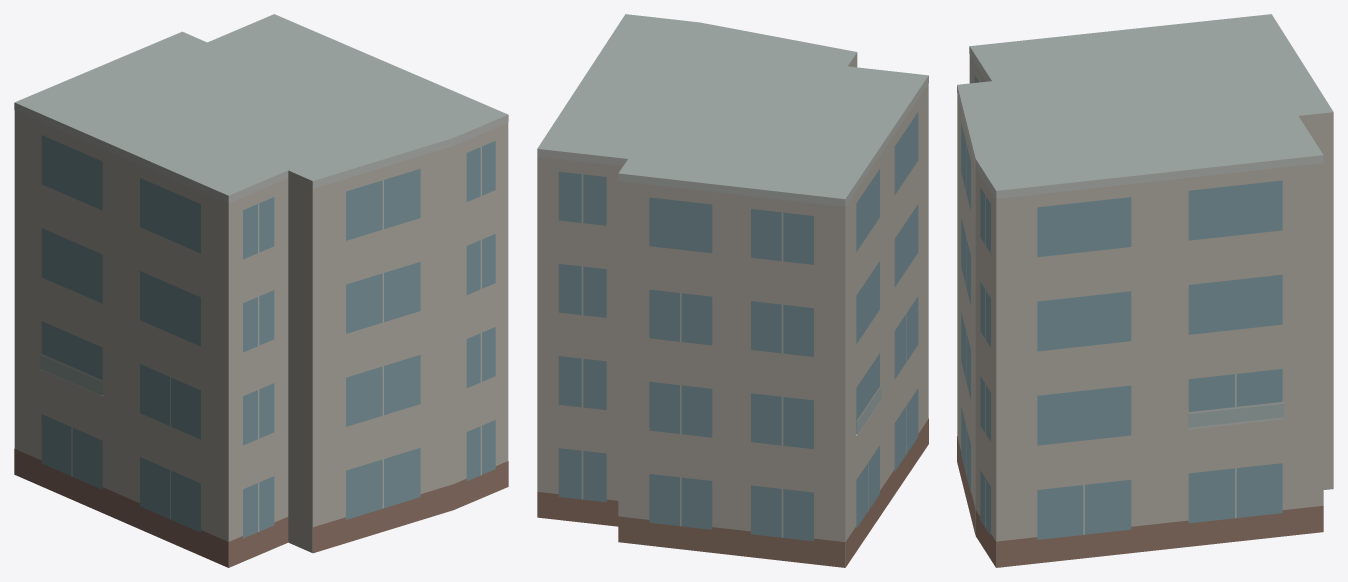
The model's file is survey-upis-32660557.glb.
The picture shows the model from 3 angles, left to right: view 1: azimuth 30°, elevation 25°; view 2: azimuth 150°, elevation 25°; view 3: azimuth 270°, elevation 25°; orthographic projection. The views are drawn at different scales.
Visible parts, largest first — view 1: survey-upis-32660557.tmp; view 2: survey-upis-32660557.tmp; view 3: survey-upis-32660557.tmp.
Part boxes in pixels (<box>): survey-upis-32660557.tmp: <box>14,14,508,567</box>; survey-upis-32660557.tmp: <box>537,14,928,567</box>; survey-upis-32660557.tmp: <box>957,14,1333,567</box>.
Bounding box in the file's own units: 11.69 × 11.6 × 10.51.
